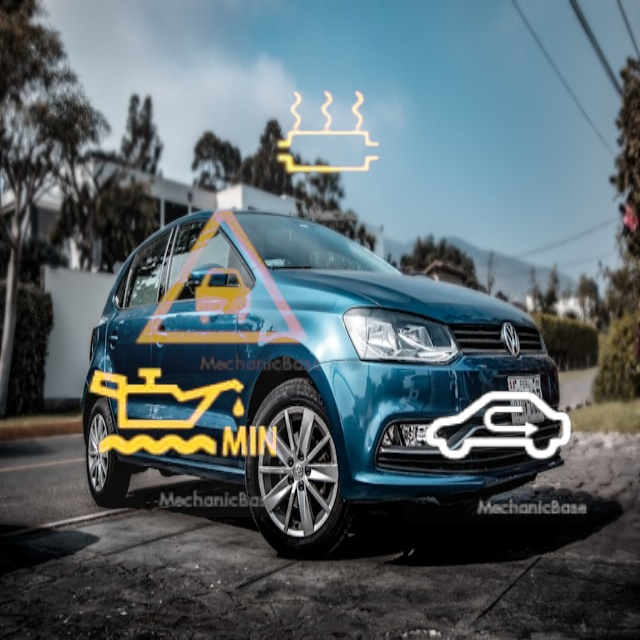symbol: (116, 167, 330, 381), (78, 310, 285, 517), (231, 34, 427, 230), (403, 332, 594, 523)
